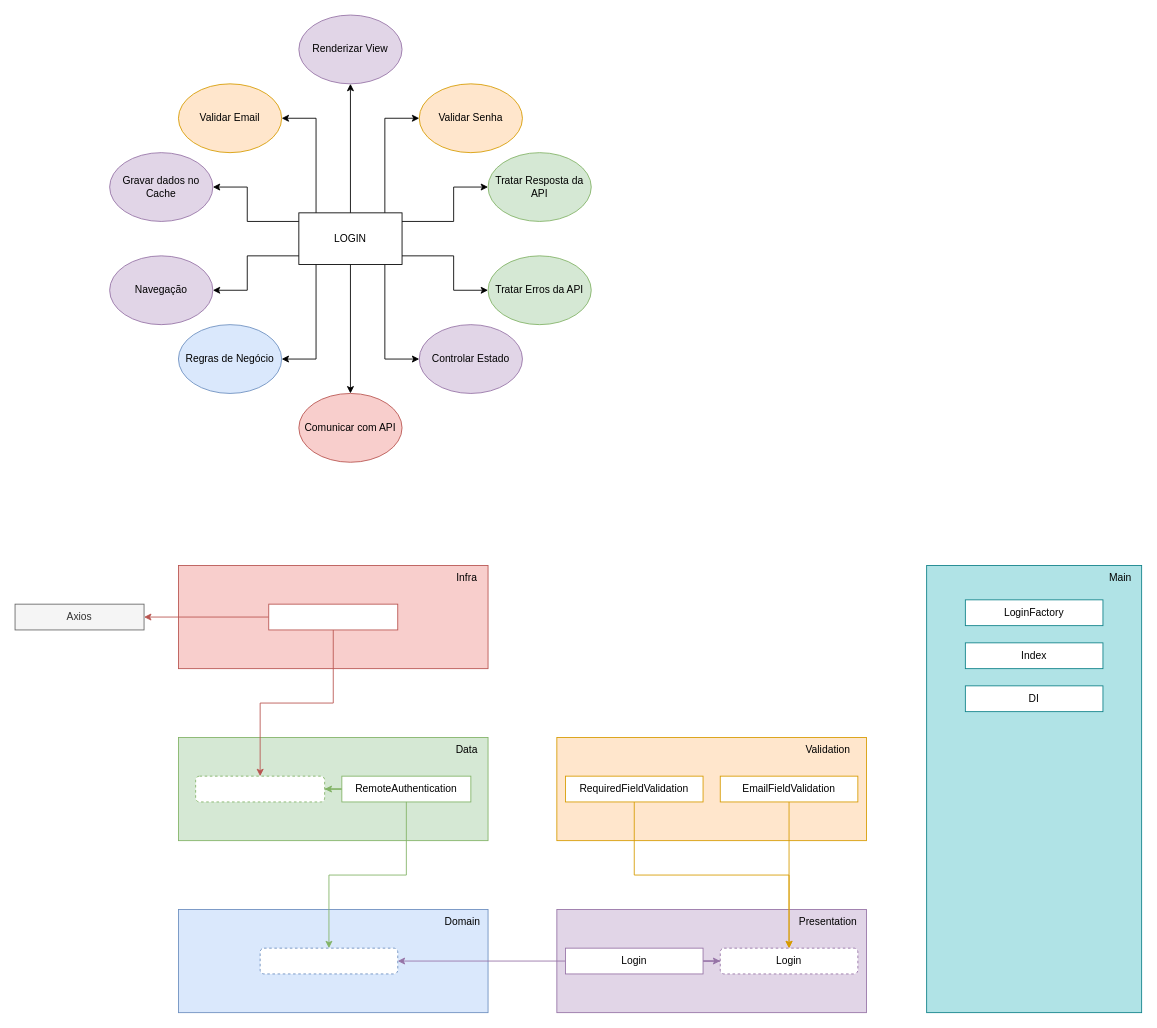
Some shapes in this 1157 by 1028 pixel diagram are drawn without their labels. Each missing label, with the box of its shape:
Authentication: (259, 947, 398, 974)
AxiosHttpClient: (268, 603, 398, 630)
HttpPostClient: (195, 775, 325, 802)
